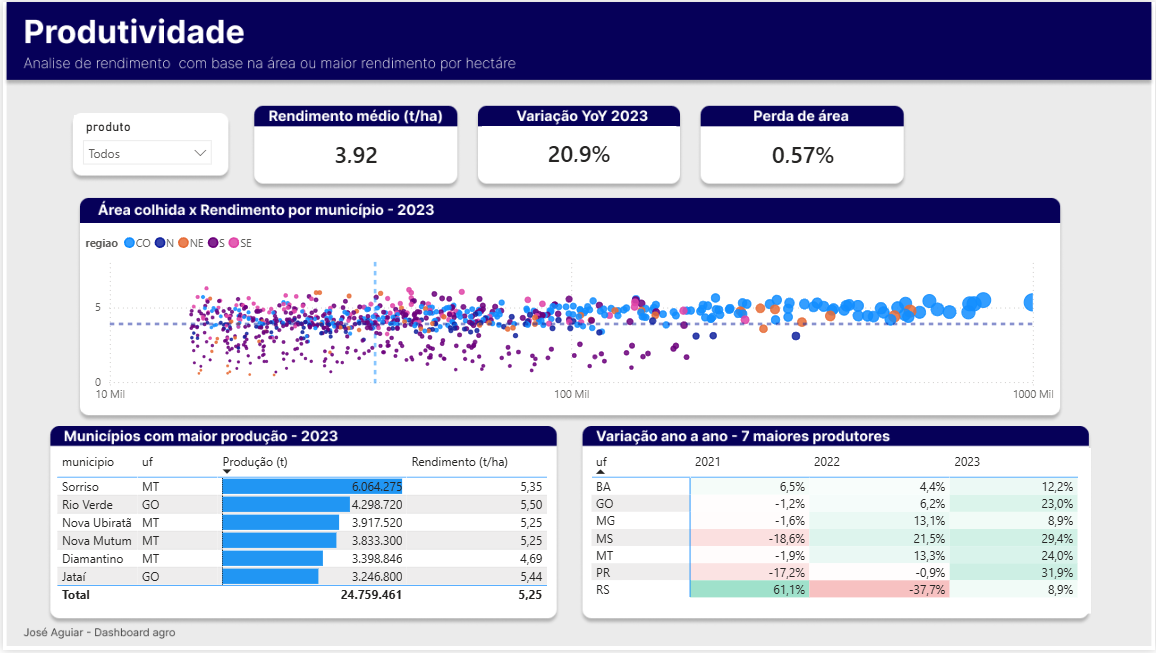

The dashboard page shown, as its layout file describes it:
{"tool":"powerbi","page":{"name":"Produtividade","canvas":[1280,720],"ordinal":1},"visuals":[{"type":"scatterChart","fields":{"Category":["dim_municipio.municipio"],"Series":["dim_municipio.regiao"],"Size":["Medidas.Produção (t)"],"X":["Medidas.Área Colhida (ha)"],"Y":["Medidas.Rendimento (t/ha)"]},"box":[86.7,247.8,1085.6,206.7],"z":0},{"type":"slicer","fields":{"Values":["dim_produto.produto"]},"box":[79,126,163,62],"z":1000},{"type":"pivotTable","fields":{"Columns":["dim_tempo.ano"],"Rows":["dim_municipio.uf"],"Values":["Medidas.Variação YoY %"]},"box":[647,496,560,184],"z":2000}]}

Visuals, with their boxes in screenshot pixels (x1, y1, x2, y2), scaled from the page's 1280x720 canvas onto the 1156x653 screenshot:
scatterChart - dim_municipio.municipio x dim_municipio.regiao: region(78, 225, 1059, 412)
slicer - dim_produto.produto: region(71, 114, 219, 171)
pivotTable - dim_tempo.ano x dim_municipio.uf: region(584, 450, 1090, 617)
